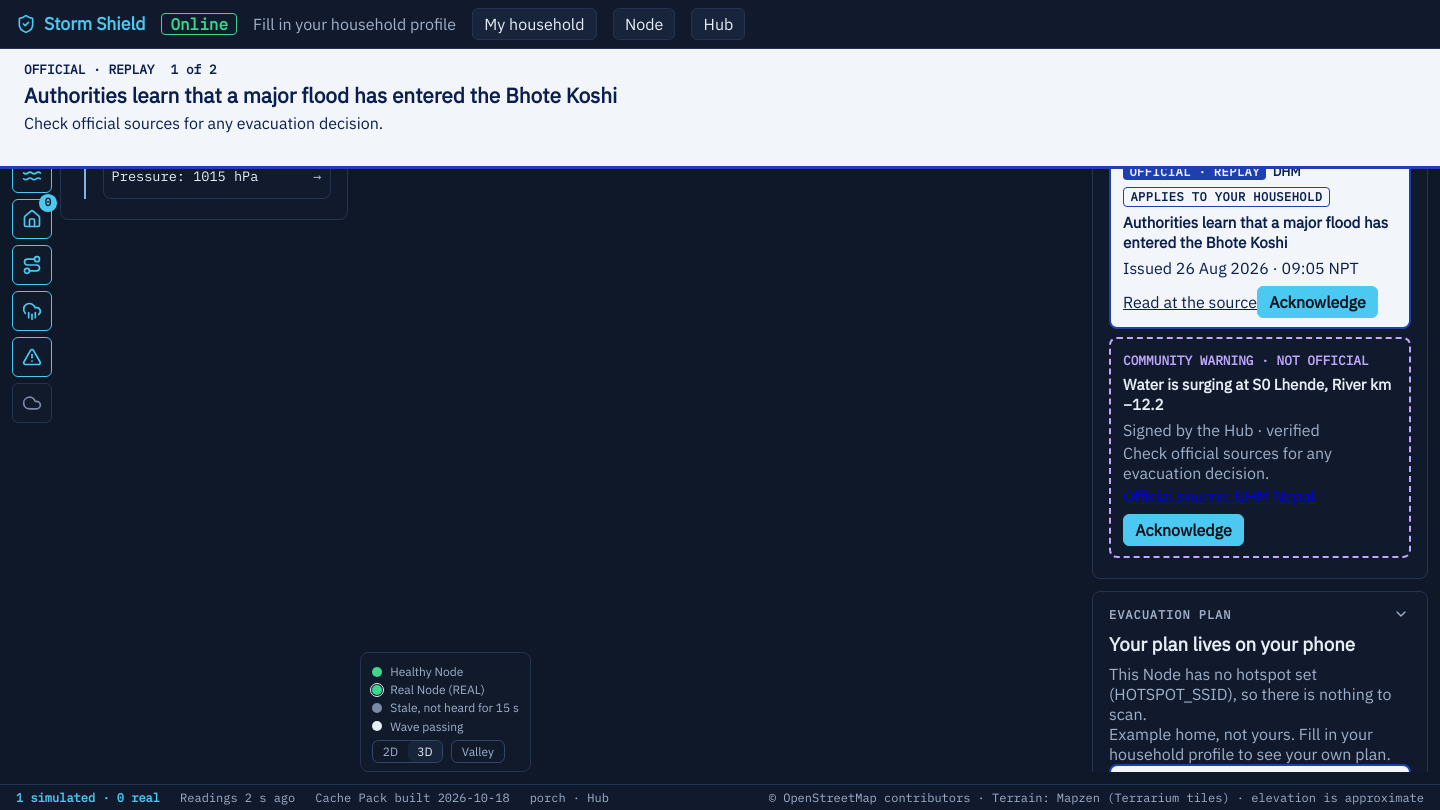
Test: the warning band on a desktop › shows Official first with the count, then Community
Expected: the text "OFFICIAL · REPLAY" is shown, [24,61,154,78]
Expected: the text "1 of 2" is shown, [170,61,217,78]
What coordinates should you click on to do the following:
click the button "Acknowledge" next to "Read at the source"
I would click on:
 (1317, 302)
Its box is [1257,286,1378,318].
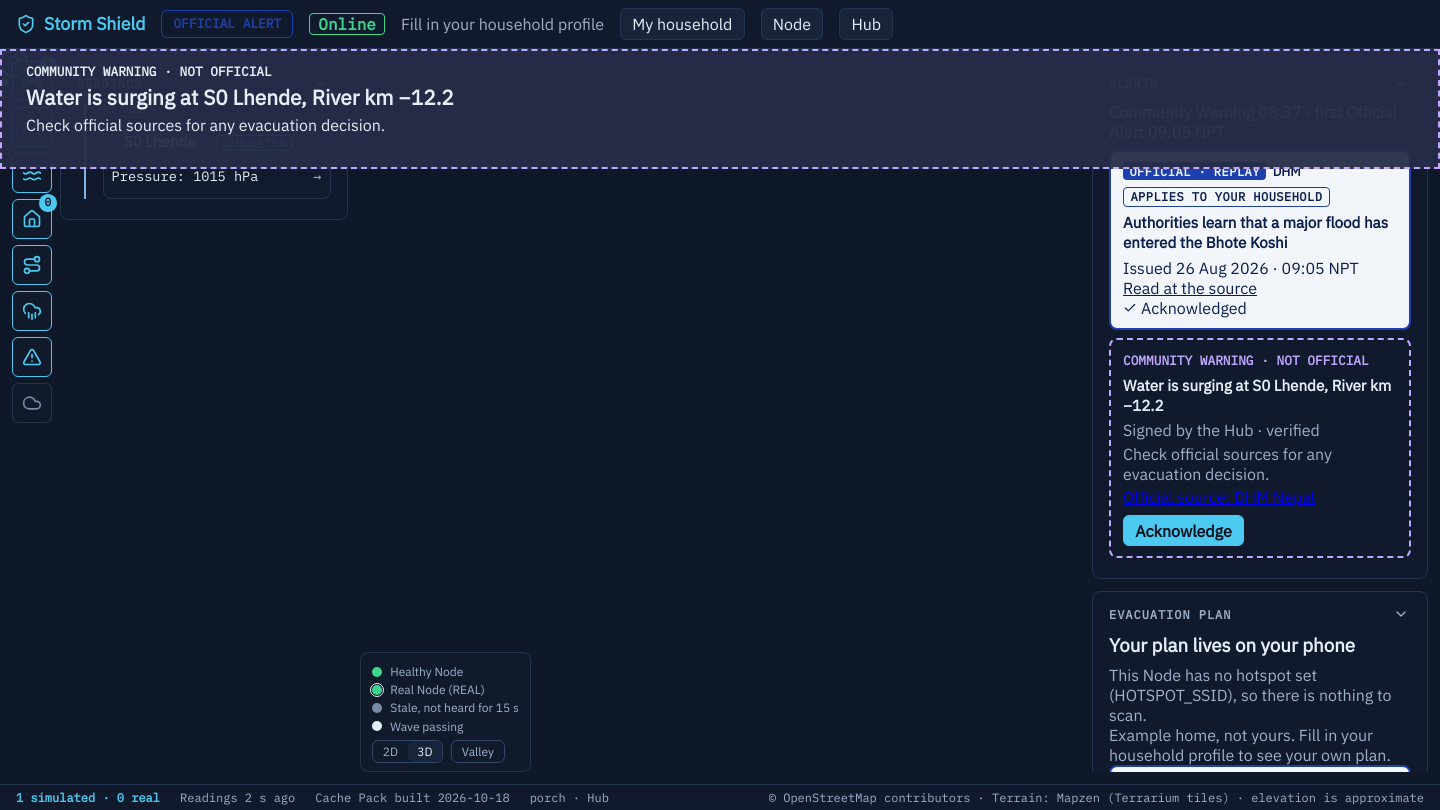
Expected: the 1st text "COMMUNITY WARNING · NOT OFFICIAL" is shown, [26,63,272,80]
Expected: the text "1 of 2" is gone
